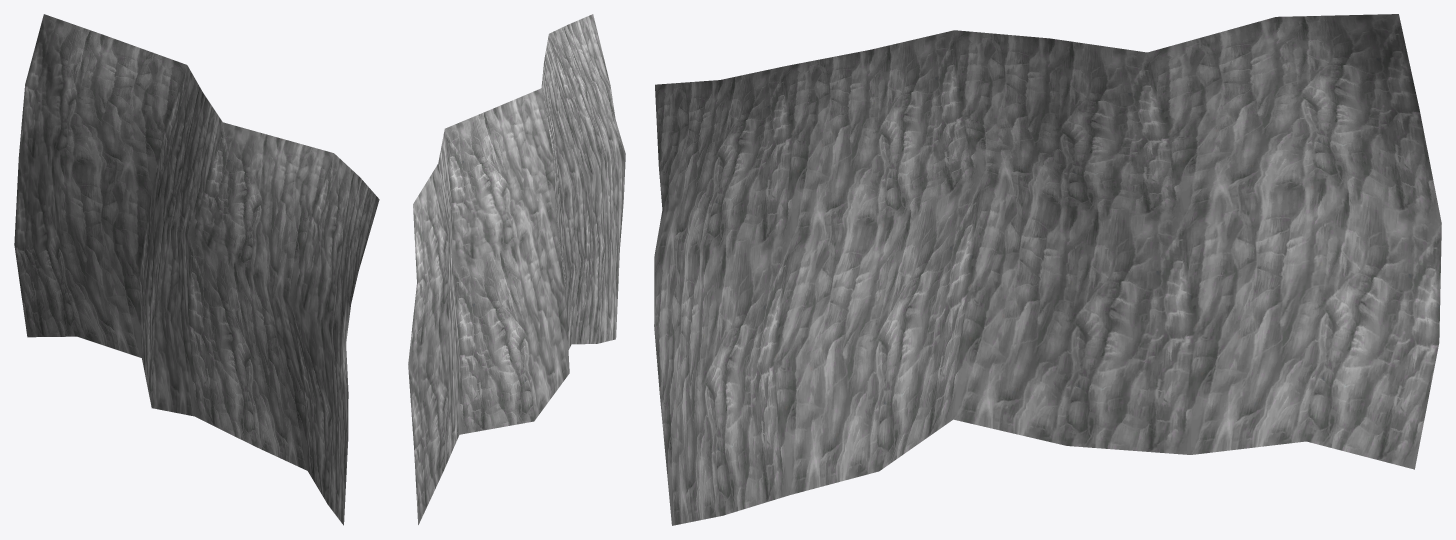
The model's file is SWORDLIGHT20_PS-AREA03_186.fbx.
3 renders of one model, left to right at view 1: azimuth 30°, elevation 25°; view 2: azimuth 150°, elevation 25°; view 3: azimuth 270°, elevation 25°, orthographic. The views are drawn at different scales.
Visible parts, largest first — view 1: SWORDLIGHT20_PS-AREA03_186; view 2: SWORDLIGHT20_PS-AREA03_186; view 3: SWORDLIGHT20_PS-AREA03_186.
Boxes of the visible parts, x1,y1,x2,y2 form: SWORDLIGHT20_PS-AREA03_186: (14,14,379,525); SWORDLIGHT20_PS-AREA03_186: (408,14,625,524); SWORDLIGHT20_PS-AREA03_186: (654,14,1441,525).
Bounding box in the file's own units: 52107 × 182518 × 266227.
1 material, 1 textured.
